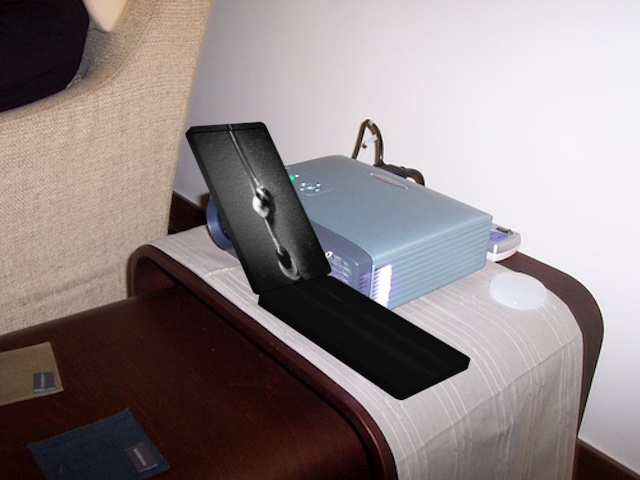mobile_phone: (185, 121, 472, 408)
